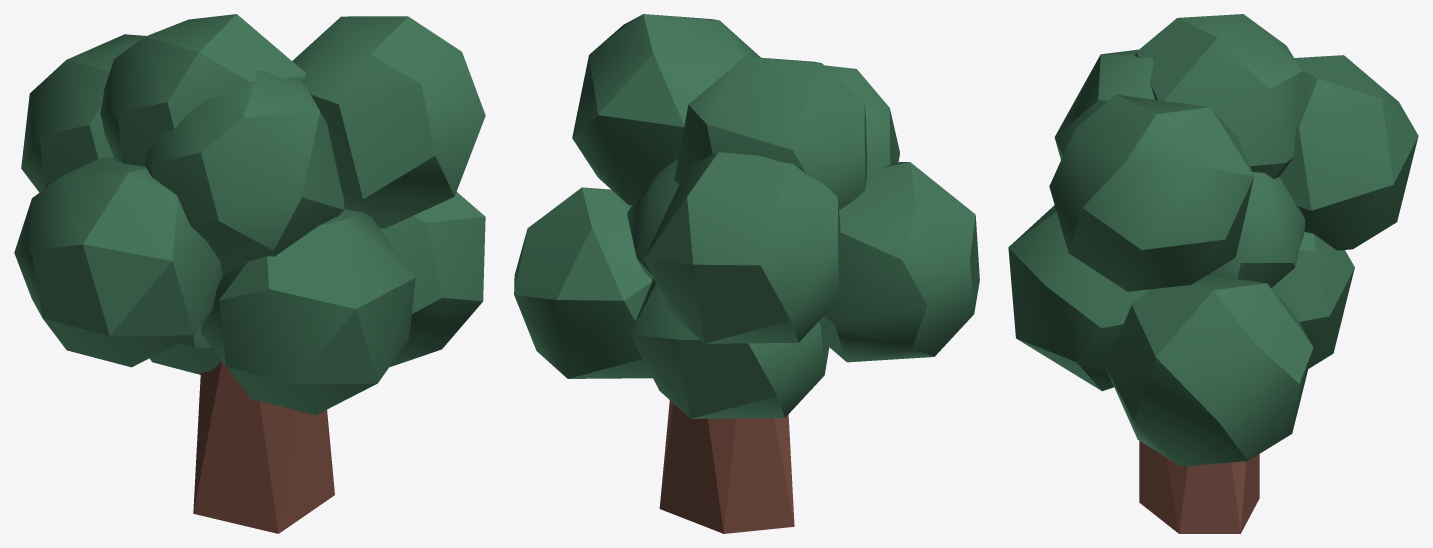
Rendered from tree SIMPLE4.fbx.
3 renders of one model, left to right at view 1: azimuth 30°, elevation 25°; view 2: azimuth 150°, elevation 25°; view 3: azimuth 270°, elevation 25°, orthographic. The views are drawn at different scales.
Parts seen in each view (by area): view 1: folliage, Icosphere; view 2: folliage, Icosphere; view 3: folliage, Icosphere.
Part boxes in pixels (x1=…): folliage: x1=14, y1=14, x2=485, y2=415; Icosphere: x1=193, y1=361, x2=334, y2=533; folliage: x1=514, y1=14, x2=979, y2=418; Icosphere: x1=659, y1=400, x2=794, y2=533; folliage: x1=1008, y1=14, x2=1418, y2=466; Icosphere: x1=1139, y1=441, x2=1259, y2=533.
Bounding box in the file's own units: 863 × 874 × 699.
